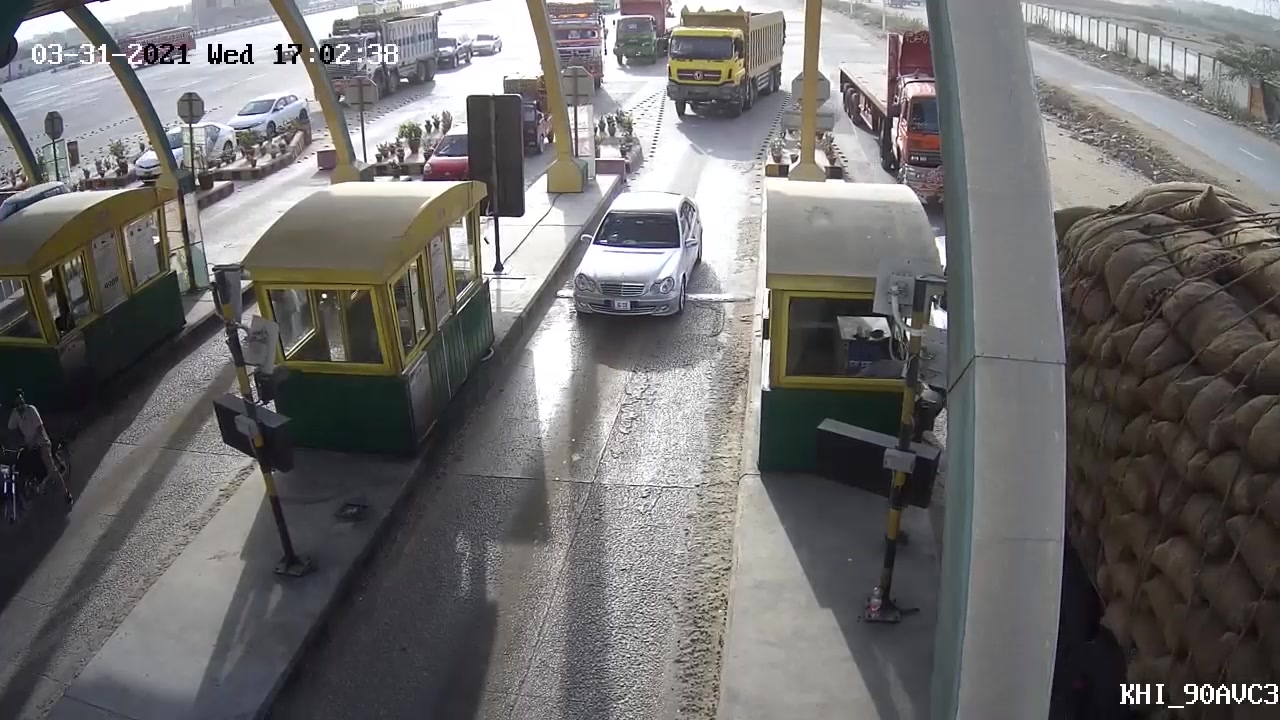F5: (663, 7, 787, 118)
